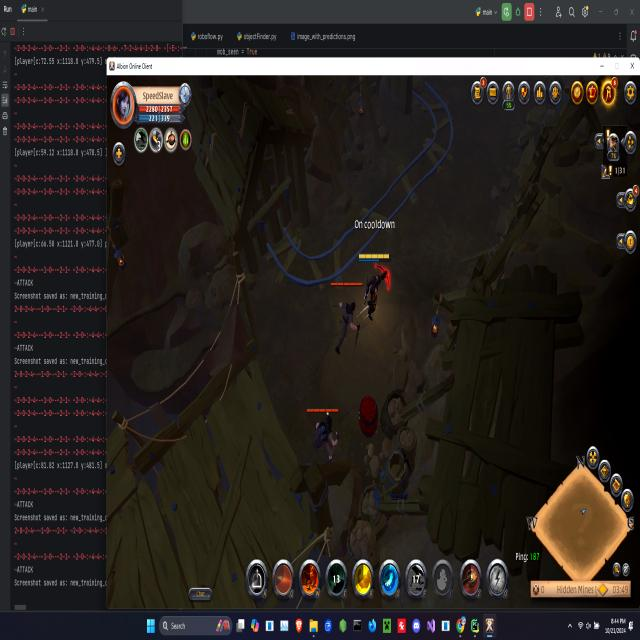ore: (330, 278, 366, 357), (304, 401, 344, 462)
red: (358, 248, 392, 321)
